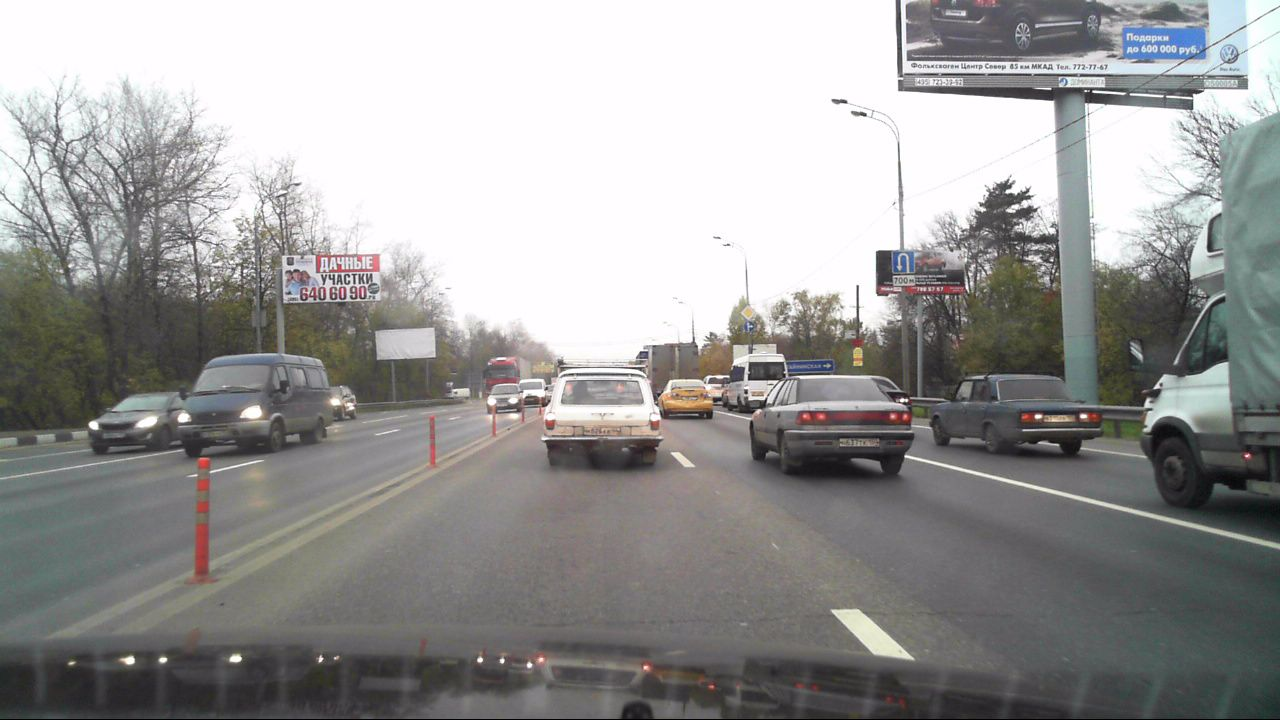U-turn: (892, 251, 914, 273)
